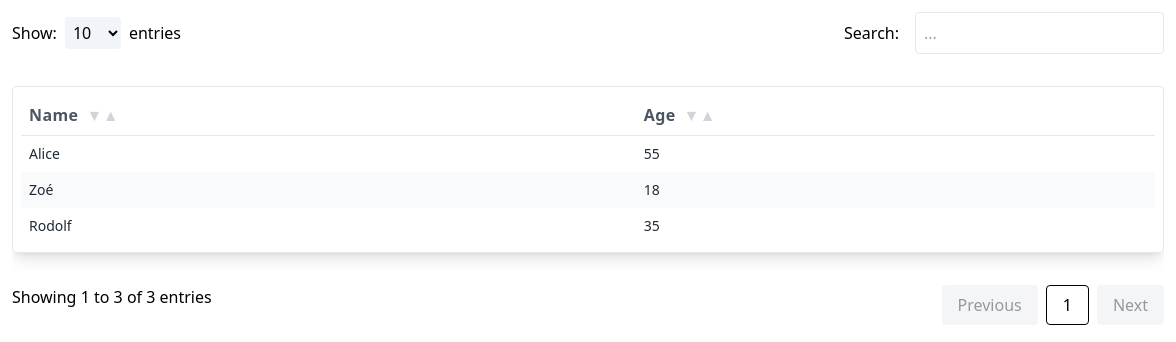
Test case: Table component | integration tests › When a search term is entered › Should filter items based on the search term
The width and height of the screenshot is (1176, 342).
Step 1. Type "Rodolf" into the field → (1040,33), box x1=915 y1=12 x2=1164 y2=54
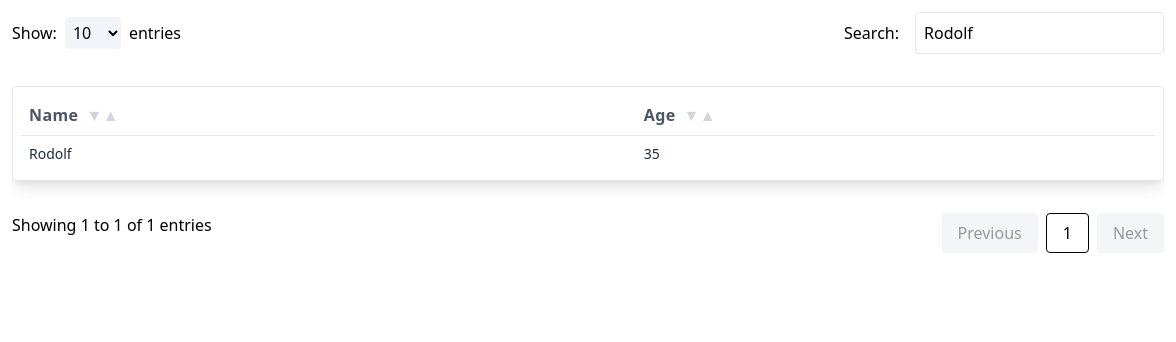
Result: the text "Rodolf" is shown at x1=21 y1=136 x2=636 y2=172
Result: the text "35" is shown at x1=636 y1=136 x2=1155 y2=172
